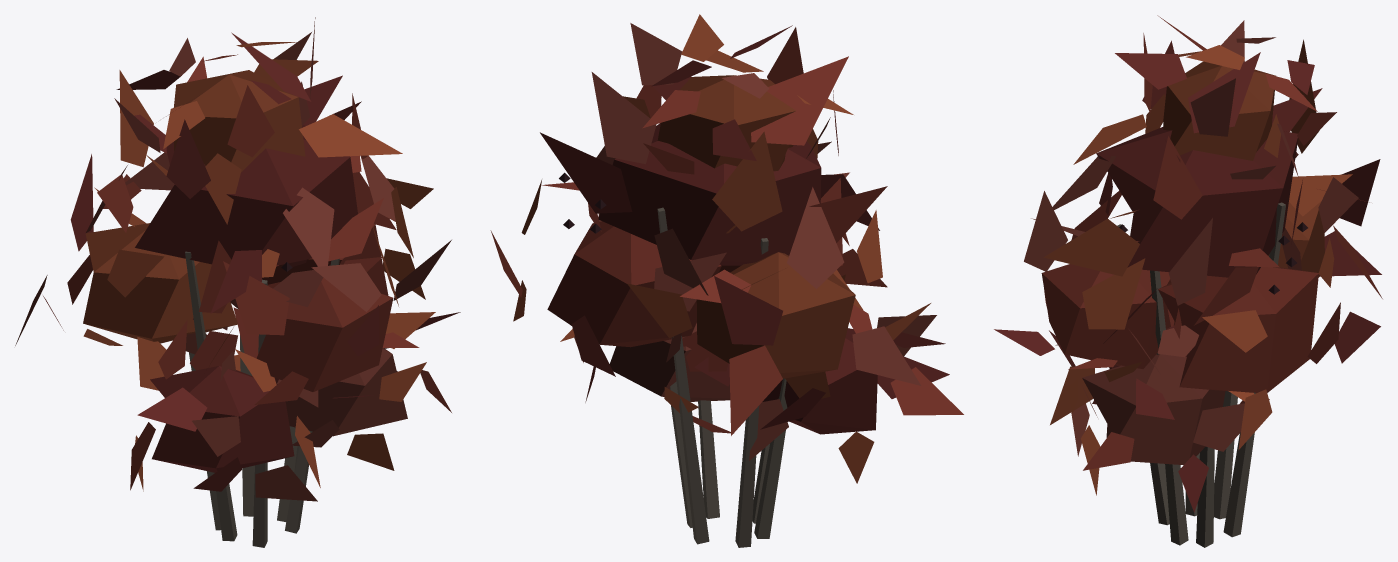
Rendered from chokecherry-high.glb.
3 views of the same model, side by side, from view 1: azimuth 30°, elevation 25°; view 2: azimuth 150°, elevation 25°; view 3: azimuth 270°, elevation 25° (orthographic). The views are drawn at different scales.
Parts seen in each view (by area): view 1: chokecherry-high / foliage, chokecherry-high / wood; view 2: chokecherry-high / foliage, chokecherry-high / wood; view 3: chokecherry-high / foliage, chokecherry-high / wood.
Boxes of the visible parts, x1,y1,x2,y2 form: chokecherry-high / foliage: (15,17,460,501); chokecherry-high / wood: (185,251,339,547); chokecherry-high / foliage: (490,14,963,483); chokecherry-high / wood: (657,207,787,547); chokecherry-high / foliage: (994,15,1382,512); chokecherry-high / wood: (1117,202,1285,547).
Bounding box in the file's own units: 2.41 × 2.78 × 2.01.
